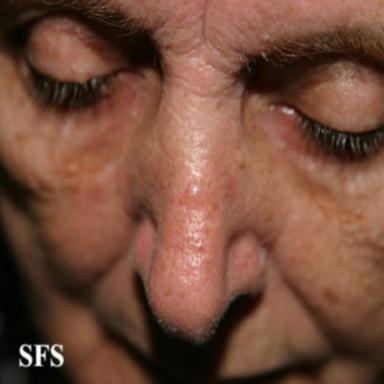basal-cell-carcinoma: (190, 185, 199, 195)
